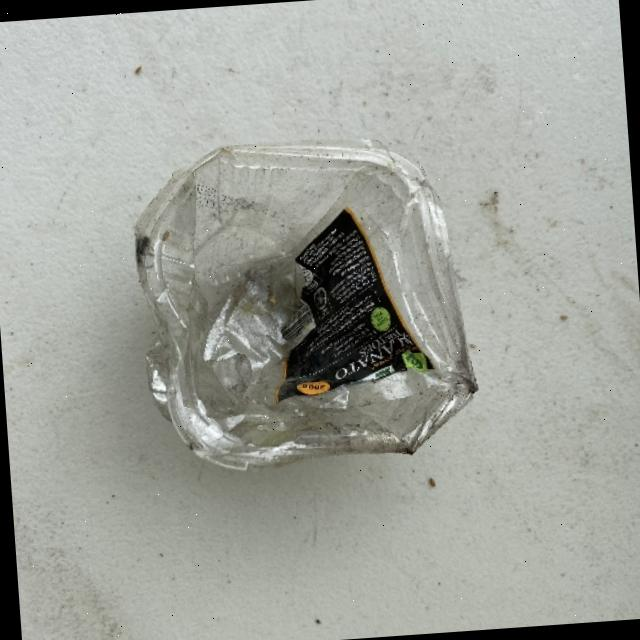plastic: (125, 126, 482, 476)
